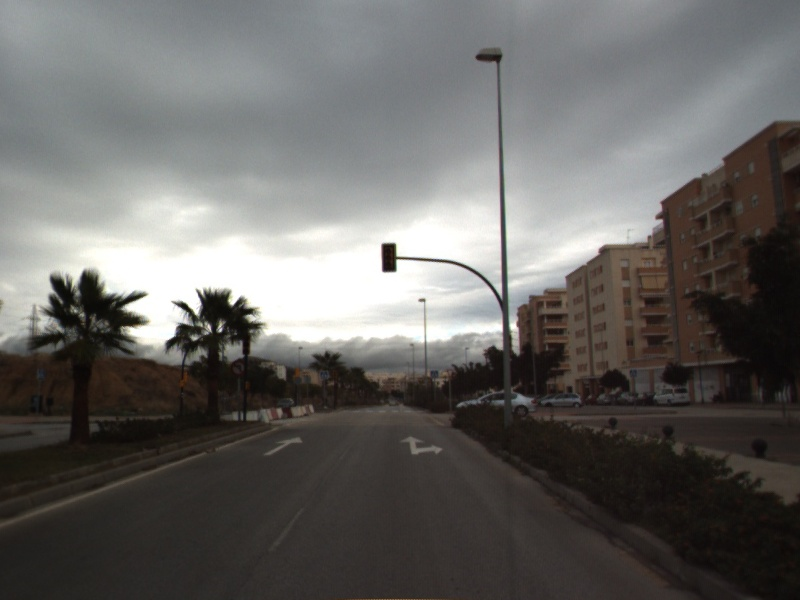STRAIGHT: (262, 434, 305, 457)
STRAIGHT_RIGHT: (398, 434, 445, 457)
